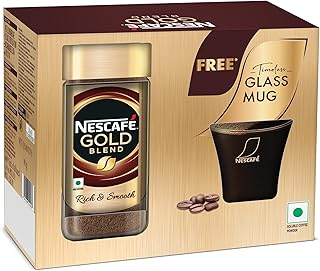Coffee: (3, 1, 320, 271)
